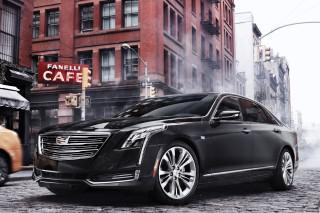cadillac: (55, 132, 73, 147)
